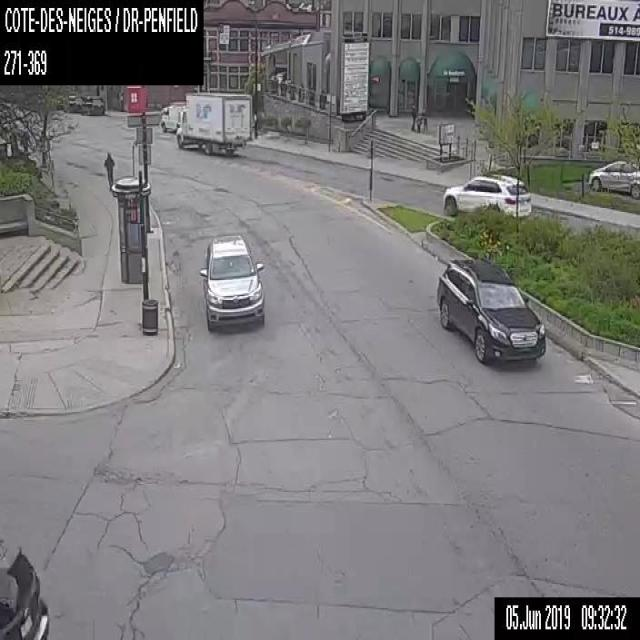pedestrian: (104, 151, 115, 188), (410, 108, 416, 130), (422, 113, 428, 133), (416, 112, 421, 132)
vehicle: (436, 256, 544, 363), (198, 234, 264, 334), (175, 90, 252, 154), (0, 538, 49, 638), (441, 172, 531, 224), (587, 156, 639, 196), (160, 99, 185, 131), (83, 92, 104, 116)
